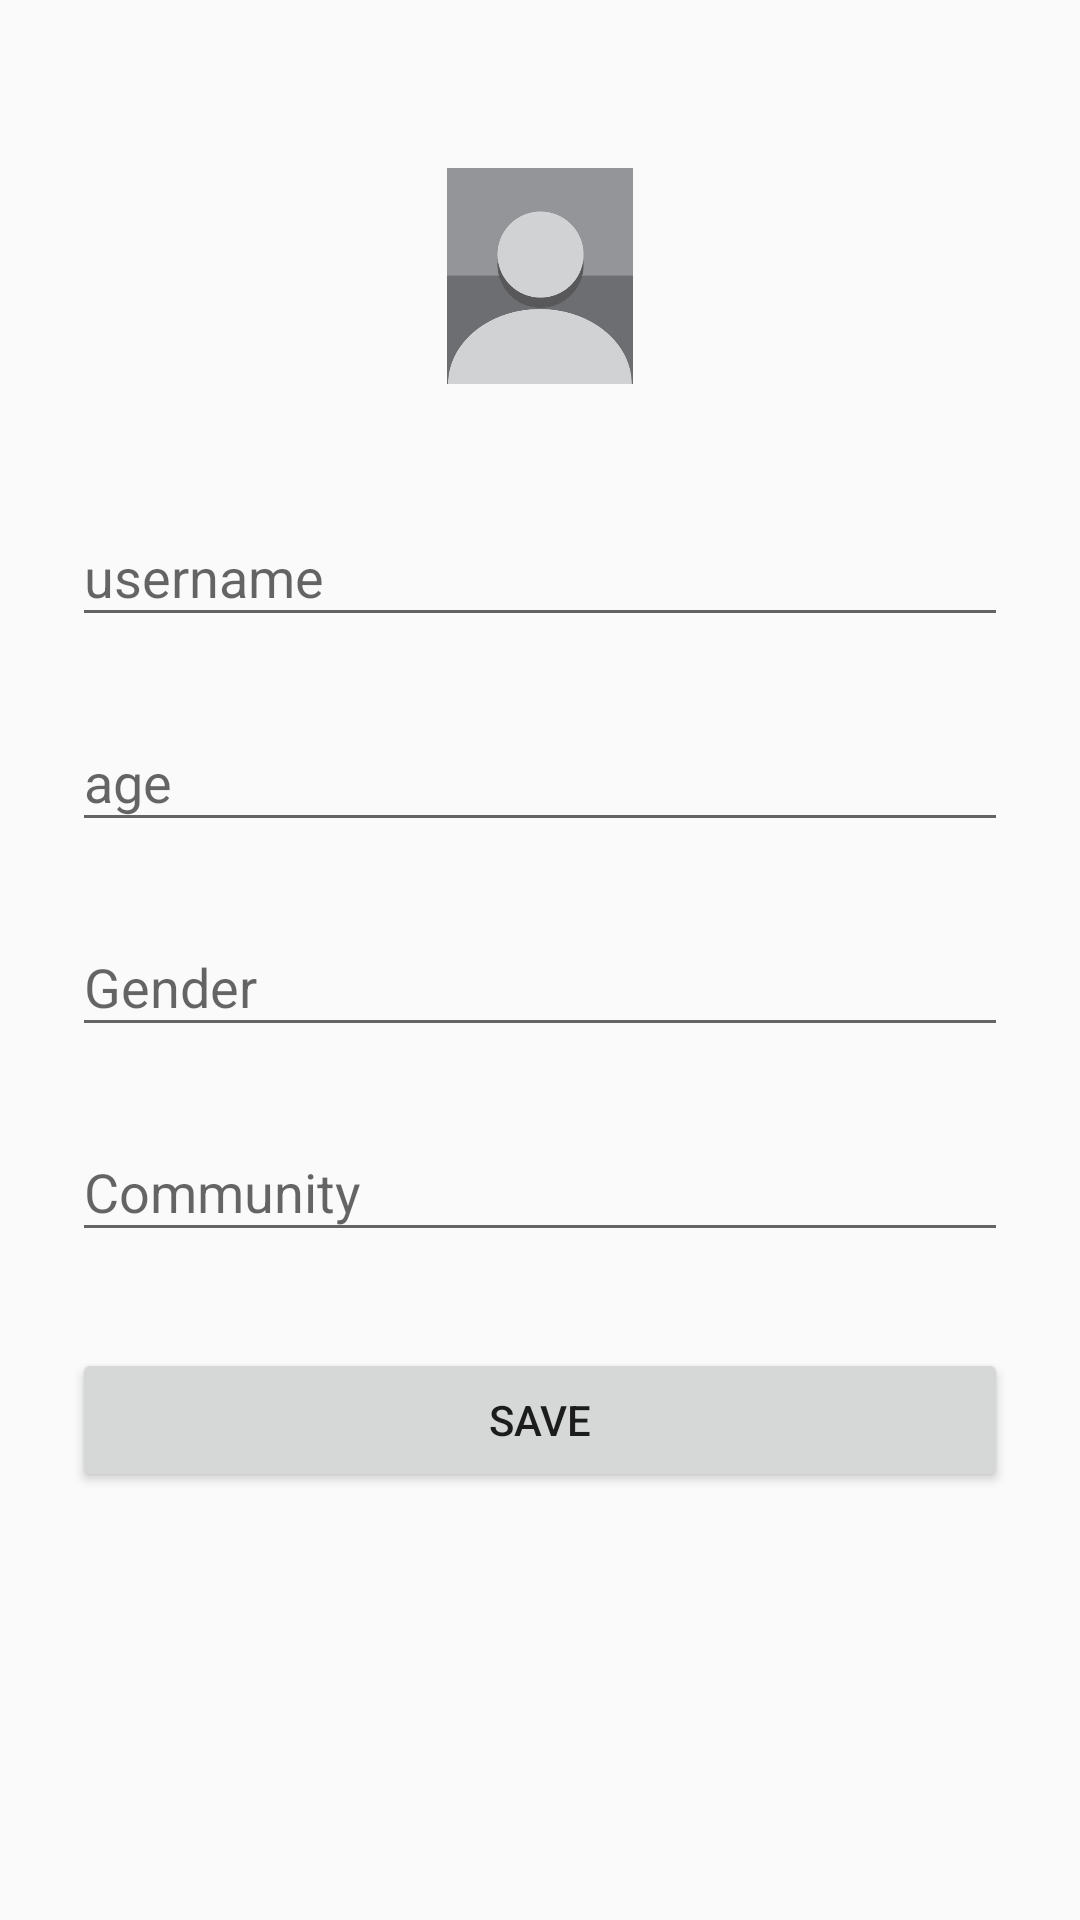

Point at icon controls on the screen. Image size 1080px x 1920px, points as (x=x, y=y).
profile pic: (x=540, y=276)
